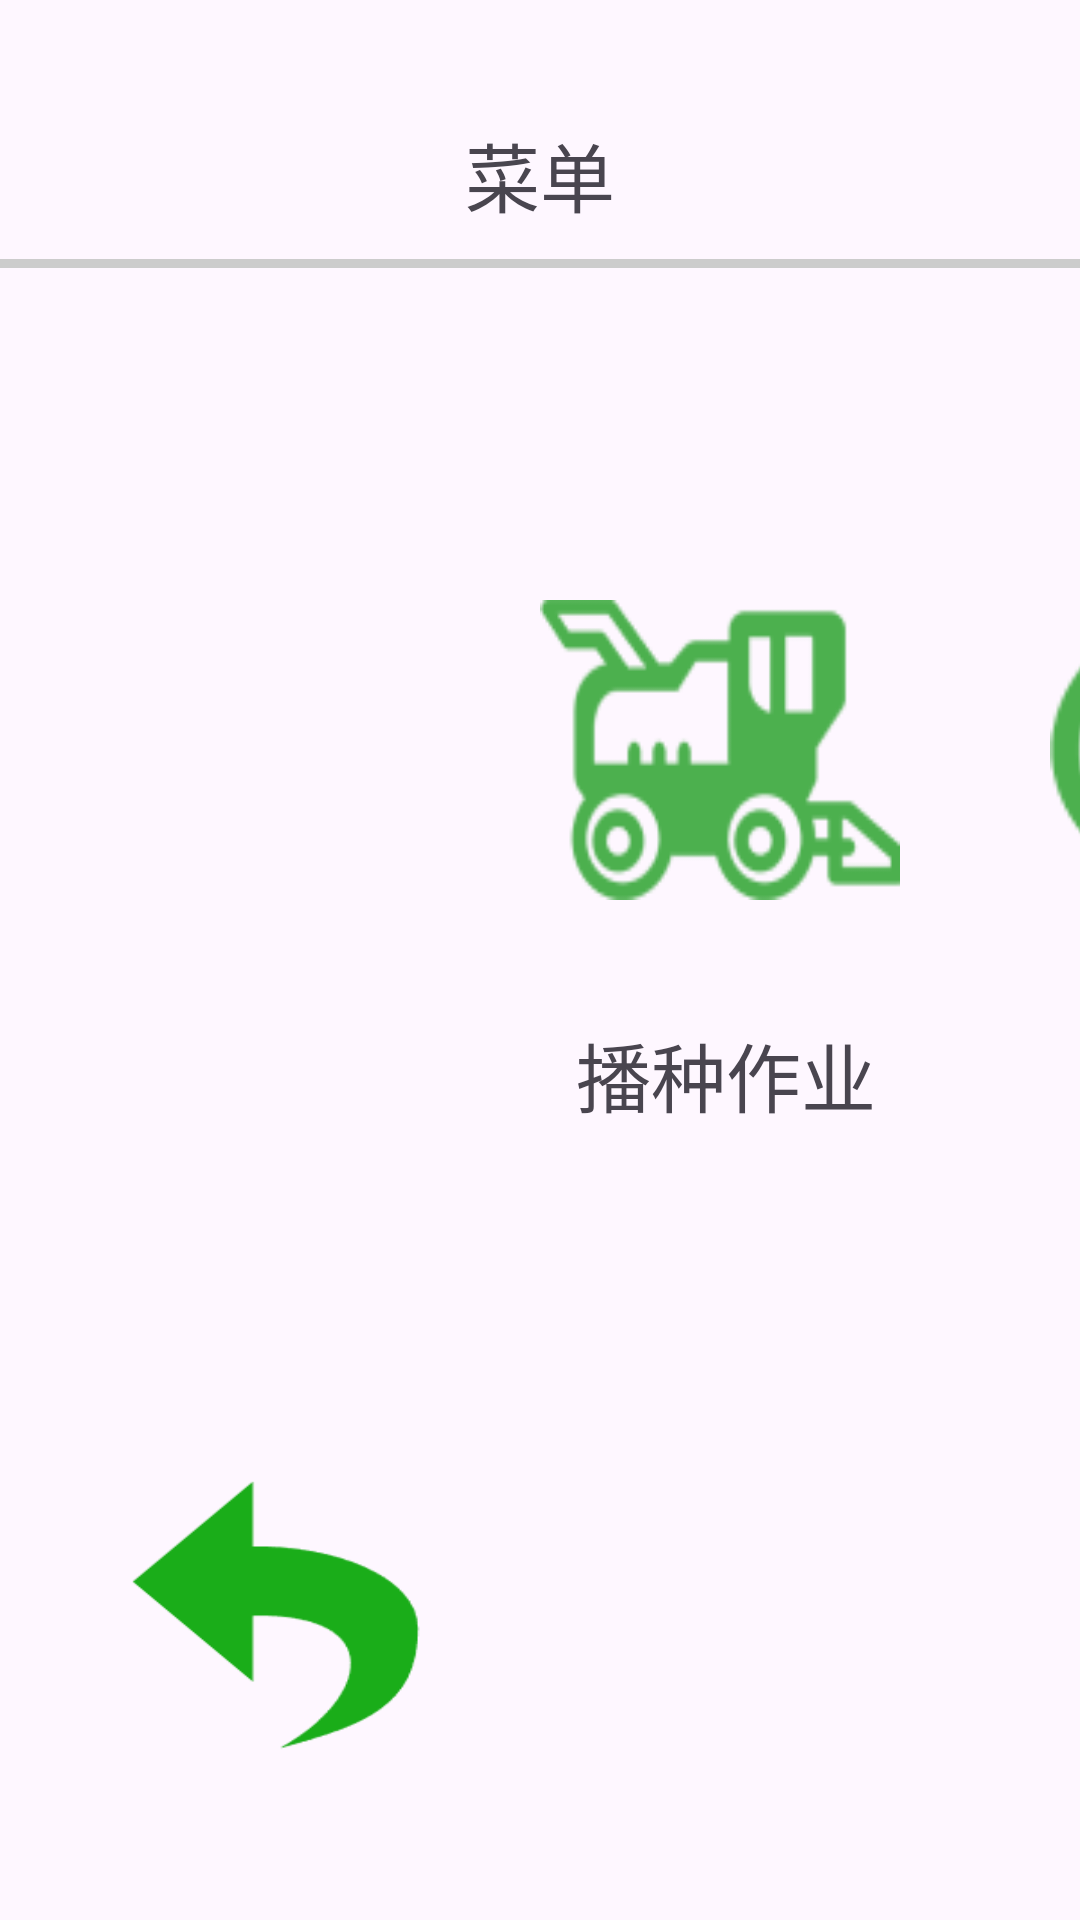

Icon bounding boxes for this 1080w x 1920h phone screenshot, format (x1, y1, x2, y2):
返回: (133, 1482, 420, 1748)
